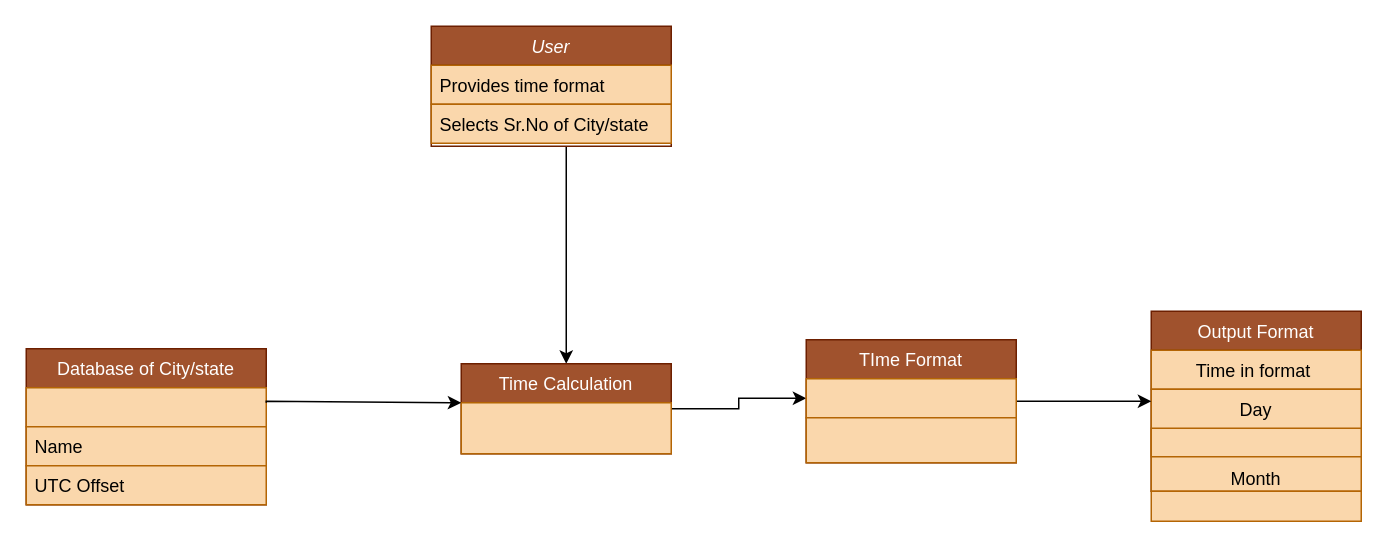
The diagram is 1388 pixels wide and 548 high, and some of its shapes have lost their labels. The centre of each missing label's shape, as x and y in pixels:
24 Hr format: the point at 910,439
AM/PM in 12 Hr format: the point at 910,397
Day no: the point at 1255,442
Serial no: the point at 145,406
Time of the city/state: the point at 565,427
Year: the point at 1255,505
